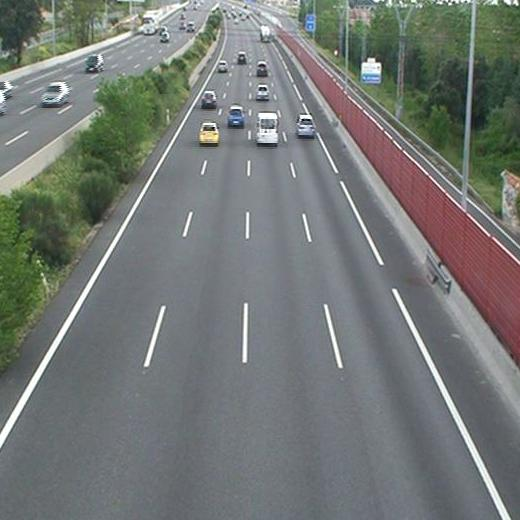car: (199, 122, 219, 143), (297, 115, 316, 135), (228, 106, 245, 126), (256, 85, 270, 100), (202, 92, 216, 106), (256, 62, 269, 76), (218, 61, 229, 72), (237, 53, 247, 63)
van: (257, 113, 278, 143)
